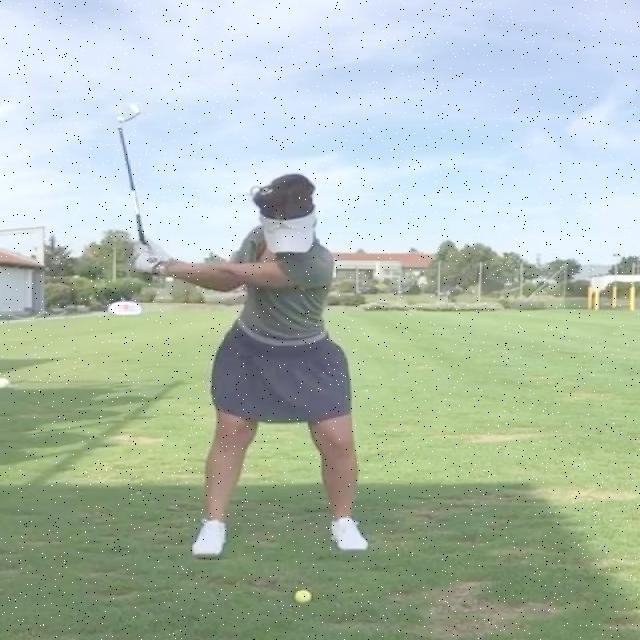ClubHandle: (116, 105, 146, 275)
ClubHead: (116, 105, 140, 125)
GolfBall: (295, 589, 311, 603)
